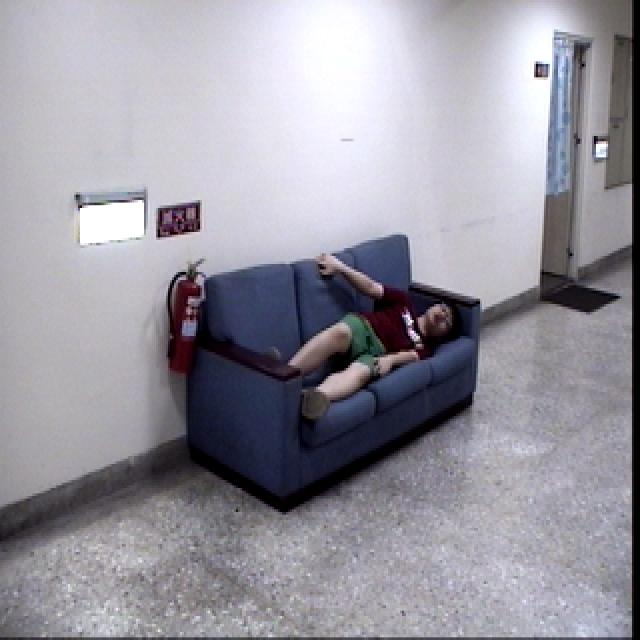lie: (264, 250, 461, 429)
